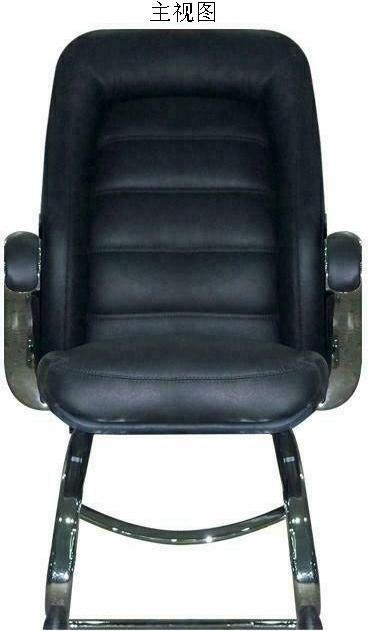obstacle: (5, 30, 360, 630)
